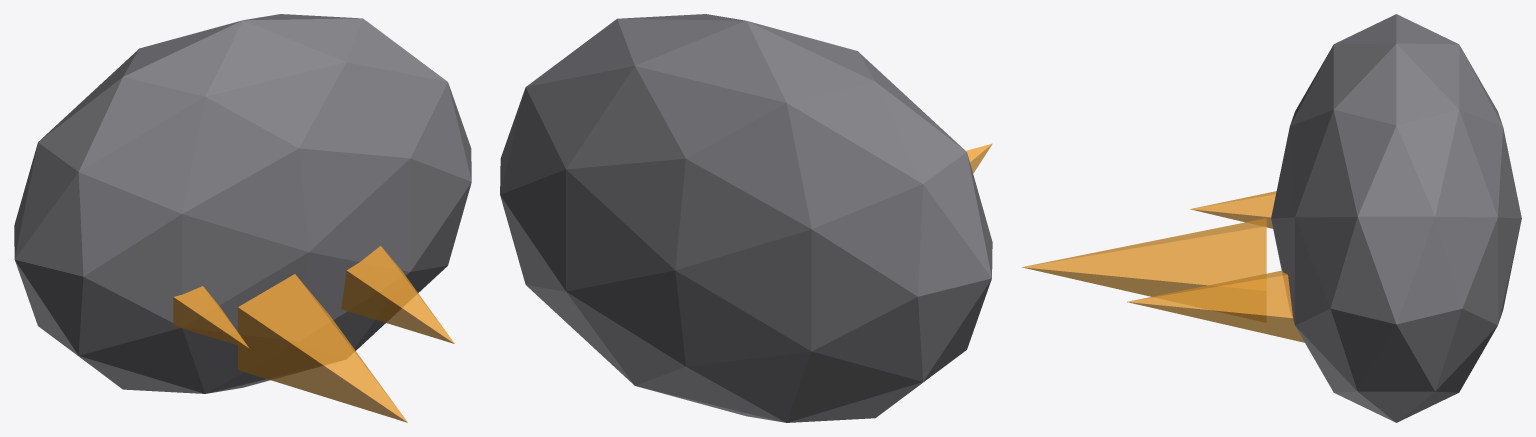
Rendered from silver_ore_node.glb.
The picture shows the model from 3 angles, left to right: view 1: azimuth 30°, elevation 25°; view 2: azimuth 150°, elevation 25°; view 3: azimuth 270°, elevation 25°; orthographic projection. The views are drawn at different scales.
Visible parts, largest first — view 1: rock_base, node_main, node_side_a, node_side_b; view 2: rock_base; view 3: rock_base, node_main, node_side_a, node_side_b.
Boxes of the visible parts, bbox=[...] form: rock_base: bbox=[14, 14, 471, 393]; node_main: bbox=[238, 274, 407, 422]; node_side_a: bbox=[341, 246, 454, 343]; node_side_b: bbox=[172, 286, 249, 348]; rock_base: bbox=[500, 14, 992, 422]; rock_base: bbox=[1271, 14, 1521, 422]; node_main: bbox=[1022, 218, 1266, 296]; node_side_a: bbox=[1127, 270, 1304, 342]; node_side_b: bbox=[1190, 191, 1276, 228].
Size of the model in its own units: 1.43 by 1.1 by 1.43.
